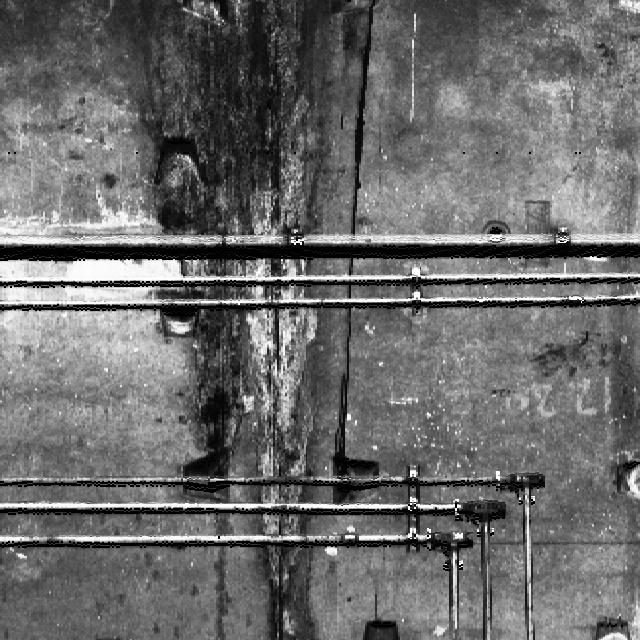leakage: (106, 1, 367, 639)
